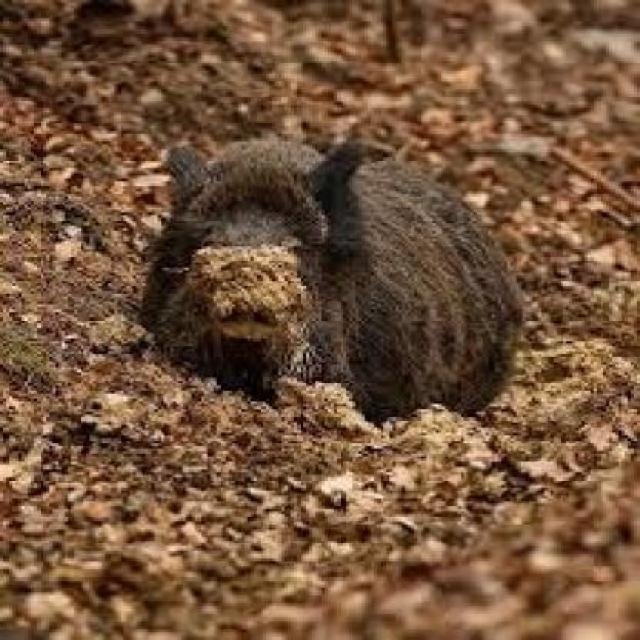Wild Boar: (128, 127, 524, 433)
